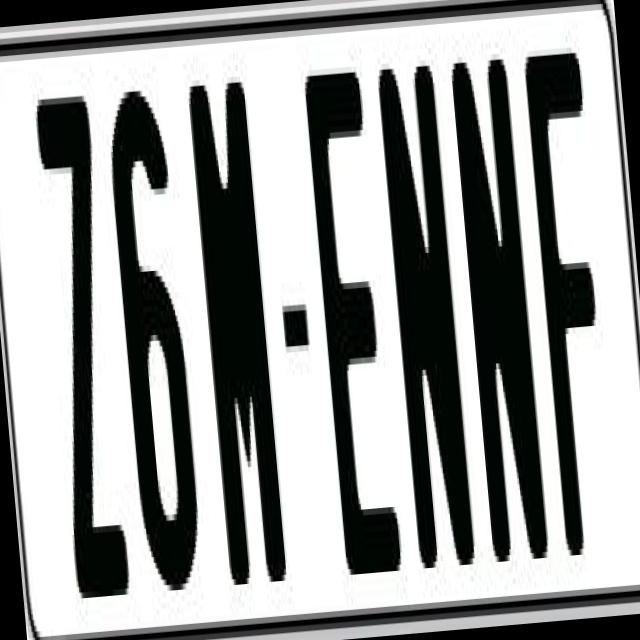6: (101, 89, 209, 616)
E: (302, 54, 408, 564)
F: (522, 35, 624, 544)
M: (182, 70, 288, 591)
N: (448, 47, 550, 579), (371, 48, 468, 551)
Z: (33, 83, 140, 598)
